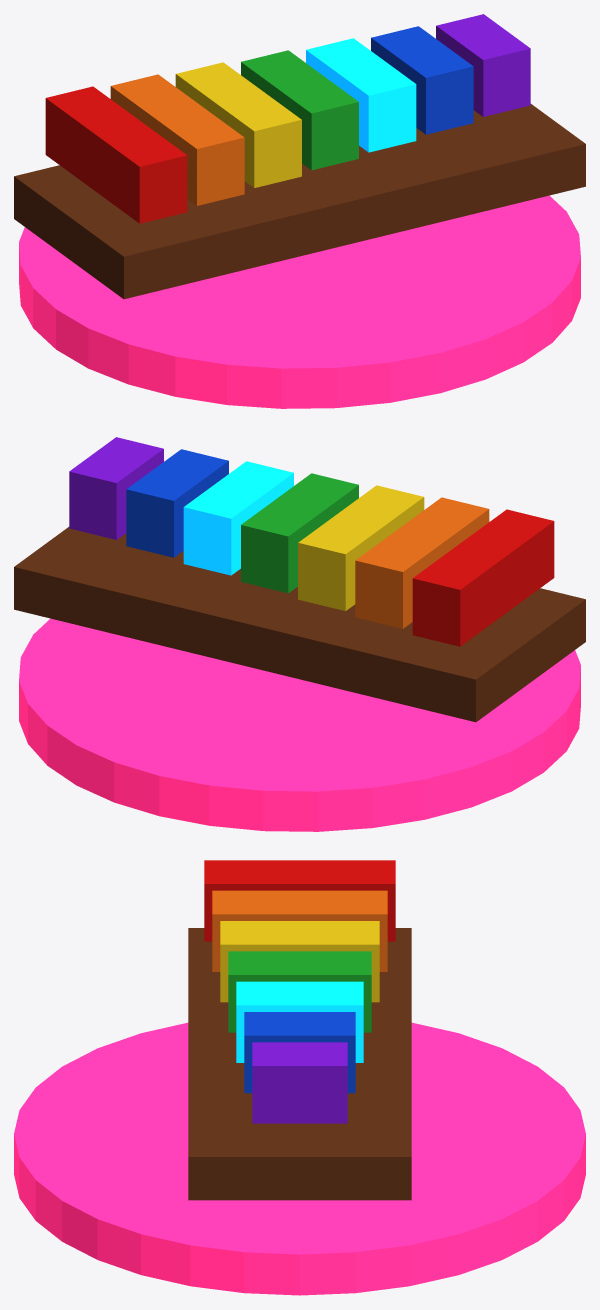
Rendered from music_xylophone.dae.
3 views of the same model, one above another, from view 1: azimuth 30°, elevation 25°; view 2: azimuth 150°, elevation 25°; view 3: azimuth 270°, elevation 25° (orthographic).
Parts seen in each view (by area): view 1: 07_10_Popular_Music_Xylophone_ROOT_base, 07_10_Popular_Music_Xylophone_part_01, 07_10_Popular_Music_Xylophone_part_02, 07_10_Popular_Music_Xylophone_part_03, 07_10_Popular_Music_Xylophone_part_04, 07_10_Popular_Music_Xylophone_part_05, 07_10_Popular_Music_Xylophone_part_06, 07_10_Popular_Music_Xylophone_part_07, 07_10_Popular_Music_Xylophone_part_08; view 2: 07_10_Popular_Music_Xylophone_ROOT_base, 07_10_Popular_Music_Xylophone_part_01, 07_10_Popular_Music_Xylophone_part_02, 07_10_Popular_Music_Xylophone_part_03, 07_10_Popular_Music_Xylophone_part_04, 07_10_Popular_Music_Xylophone_part_05, 07_10_Popular_Music_Xylophone_part_06, 07_10_Popular_Music_Xylophone_part_07, 07_10_Popular_Music_Xylophone_part_08; view 3: 07_10_Popular_Music_Xylophone_ROOT_base, 07_10_Popular_Music_Xylophone_part_01, 07_10_Popular_Music_Xylophone_part_08, 07_10_Popular_Music_Xylophone_part_02, 07_10_Popular_Music_Xylophone_part_03, 07_10_Popular_Music_Xylophone_part_04, 07_10_Popular_Music_Xylophone_part_05, 07_10_Popular_Music_Xylophone_part_06, 07_10_Popular_Music_Xylophone_part_07.
Boxes of the visible parts, <box> form: 07_10_Popular_Music_Xylophone_ROOT_base: <box>19,195,580,408</box>; 07_10_Popular_Music_Xylophone_part_01: <box>14,104,585,299</box>; 07_10_Popular_Music_Xylophone_part_02: <box>45,86,187,223</box>; 07_10_Popular_Music_Xylophone_part_03: <box>110,74,244,205</box>; 07_10_Popular_Music_Xylophone_part_04: <box>175,62,301,187</box>; 07_10_Popular_Music_Xylophone_part_05: <box>241,50,358,170</box>; 07_10_Popular_Music_Xylophone_part_06: <box>306,38,416,152</box>; 07_10_Popular_Music_Xylophone_part_07: <box>371,26,473,134</box>; 07_10_Popular_Music_Xylophone_part_08: <box>436,14,530,116</box>; 07_10_Popular_Music_Xylophone_ROOT_base: <box>19,618,580,831</box>; 07_10_Popular_Music_Xylophone_part_01: <box>14,527,585,722</box>; 07_10_Popular_Music_Xylophone_part_02: <box>412,509,554,646</box>; 07_10_Popular_Music_Xylophone_part_03: <box>355,497,489,628</box>; 07_10_Popular_Music_Xylophone_part_04: <box>298,485,424,610</box>; 07_10_Popular_Music_Xylophone_part_05: <box>241,473,358,593</box>; 07_10_Popular_Music_Xylophone_part_06: <box>183,461,293,575</box>; 07_10_Popular_Music_Xylophone_part_07: <box>126,449,228,557</box>; 07_10_Popular_Music_Xylophone_part_08: <box>69,437,163,539</box>; 07_10_Popular_Music_Xylophone_ROOT_base: <box>14,1022,585,1295</box>; 07_10_Popular_Music_Xylophone_part_01: <box>188,928,411,1200</box>; 07_10_Popular_Music_Xylophone_part_08: <box>252,1042,347,1123</box>; 07_10_Popular_Music_Xylophone_part_02: <box>204,860,395,941</box>; 07_10_Popular_Music_Xylophone_part_03: <box>212,890,387,971</box>; 07_10_Popular_Music_Xylophone_part_04: <box>220,921,379,1002</box>; 07_10_Popular_Music_Xylophone_part_05: <box>228,951,371,1032</box>; 07_10_Popular_Music_Xylophone_part_06: <box>236,981,363,1062</box>; 07_10_Popular_Music_Xylophone_part_07: <box>244,1012,355,1093</box>.
Size of the model in its own units: 0.76 by 0.31 by 0.76.
